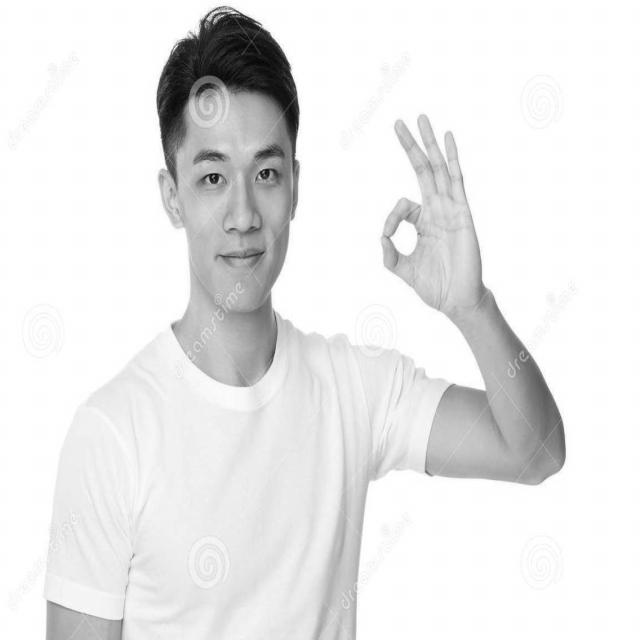perfect: (374, 103, 492, 322)
